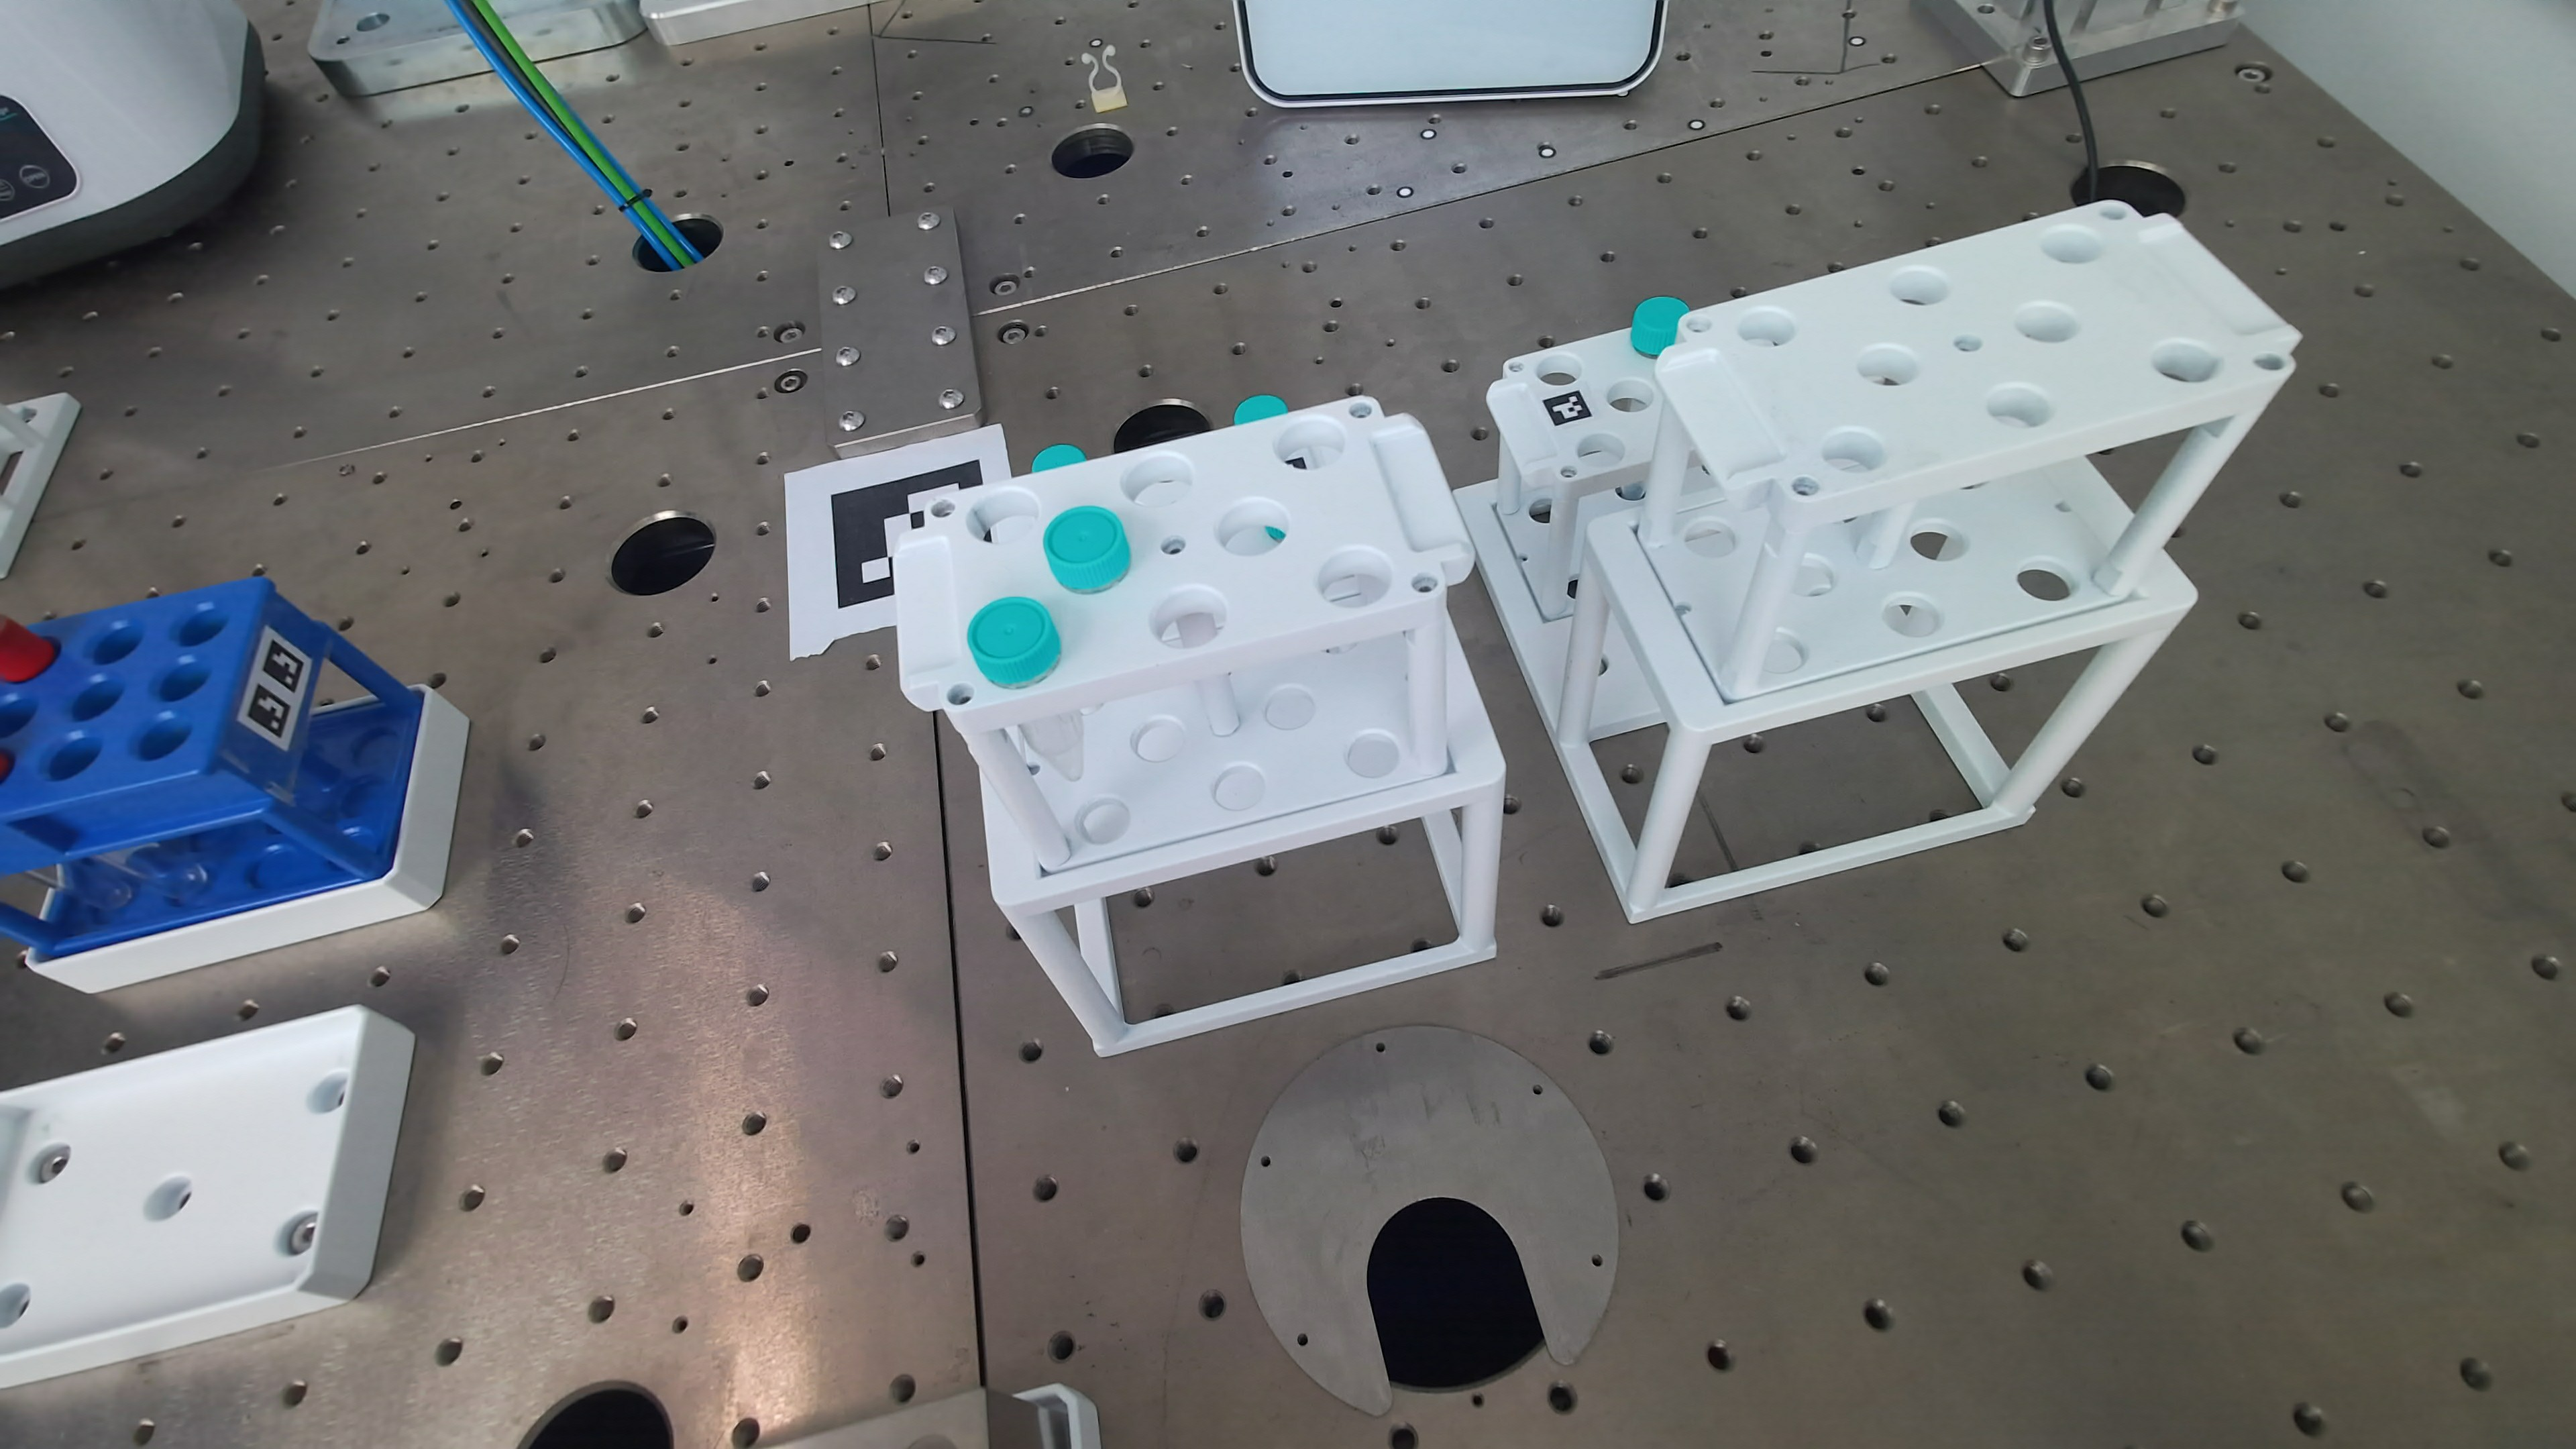10ML_centrifuge_tube: (1631, 297, 1688, 357), (1233, 395, 1288, 425), (1031, 444, 1085, 472)
10ML_sorting_tube_rack: (0, 579, 423, 957)
5ML_centrifuge_tube: (968, 596, 1062, 688), (1044, 506, 1131, 593)
blood_tube: (0, 616, 58, 683)
centrifuge_close: (0, 0, 264, 288)
dispensing_tube_rack: (892, 202, 2298, 1369)
refrigerator_close: (1235, 0, 1667, 108)
sorting_tube_rack_base: (0, 1007, 414, 1387), (30, 688, 469, 993)
